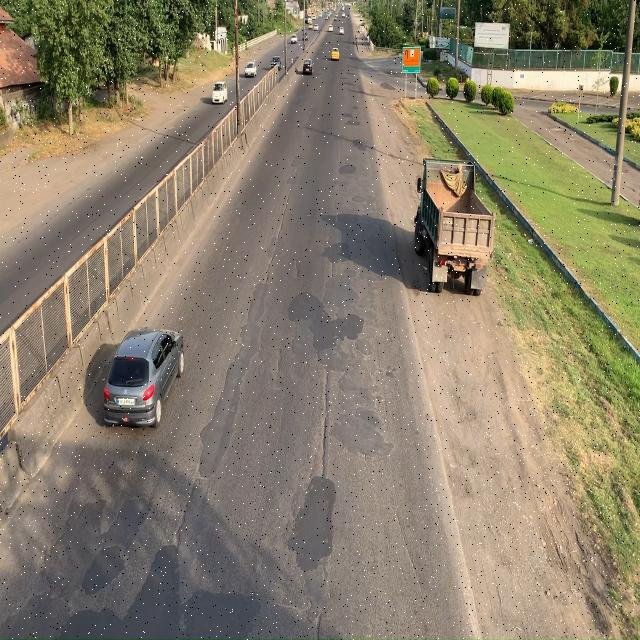Truck: (413, 154, 497, 294)
cars: (101, 328, 185, 426)
